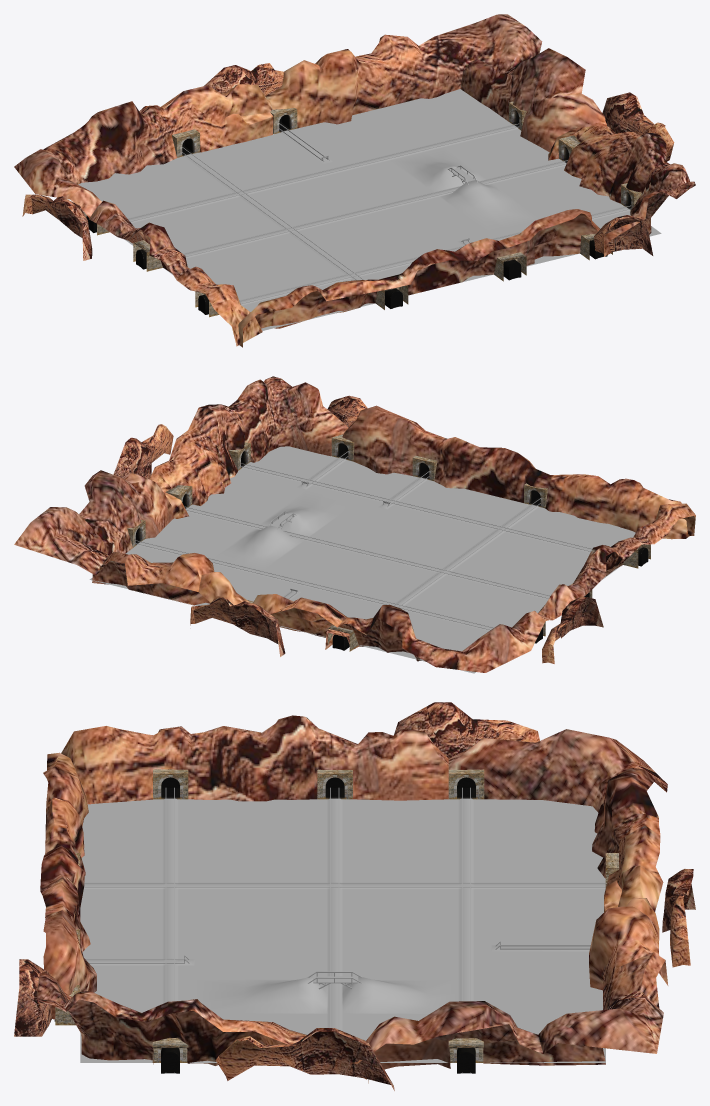
Rendered from Env.fbx.
3 renders of one model, top to bottom at view 1: azimuth 30°, elevation 25°; view 2: azimuth 150°, elevation 25°; view 3: azimuth 270°, elevation 25°, orthographic. The views are drawn at different scales.
Parts seen in each view (by area): view 1: Mountain, Ground; view 2: Mountain, Ground; view 3: Ground, Mountain.
Boxes of the visible parts, x1,y1,x2,y2 form: Mountain: [14, 14, 695, 347]; Ground: [78, 89, 661, 330]; Mountain: [14, 376, 695, 672]; Ground: [89, 446, 635, 673]; Ground: [80, 787, 605, 1072]; Mountain: [14, 702, 695, 1090].
Bounding box in the file's own units: 231 × 29.78 × 194.
